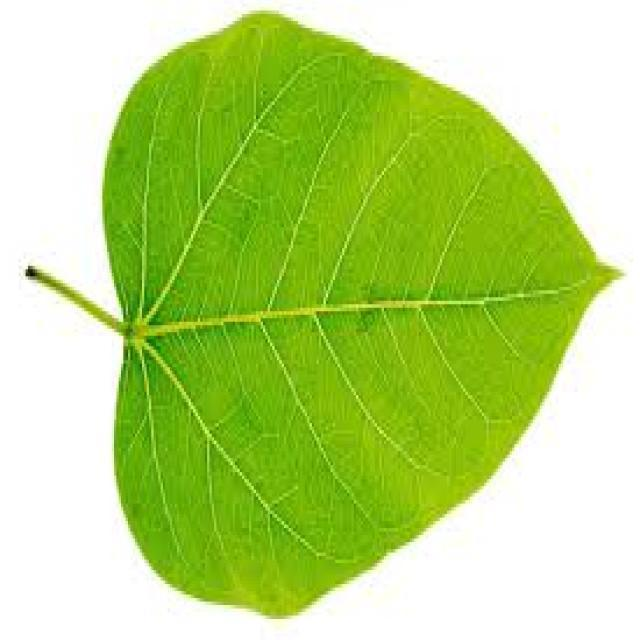leaf: (28, 9, 624, 619)
